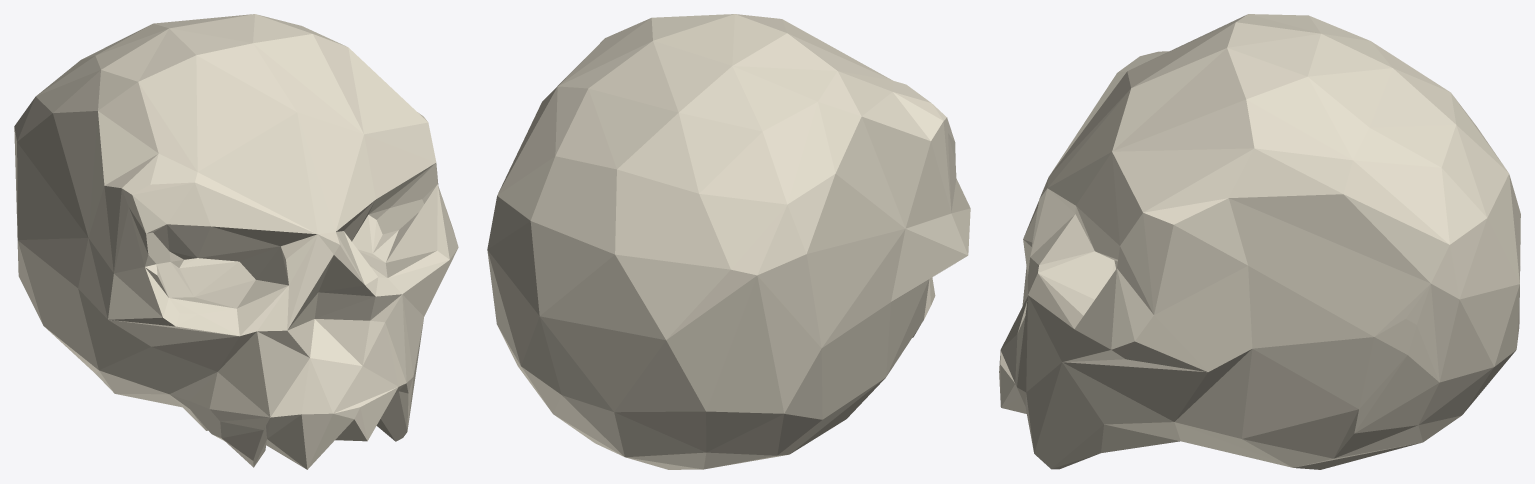
Rendered from Skull_lrg.fbx.
3 renders of one model, left to right at view 1: azimuth 30°, elevation 25°; view 2: azimuth 150°, elevation 25°; view 3: azimuth 270°, elevation 25°, orthographic. The views are drawn at different scales.
Visible parts, largest first — view 1: Skull_lrg; view 2: Skull_lrg; view 3: Skull_lrg.
Boxes of the visible parts, x1,y1,x2,y2 form: Skull_lrg: [14, 14, 458, 469]; Skull_lrg: [487, 14, 970, 469]; Skull_lrg: [999, 14, 1520, 469].
Size of the model in its own units: 189 by 198 by 232.
